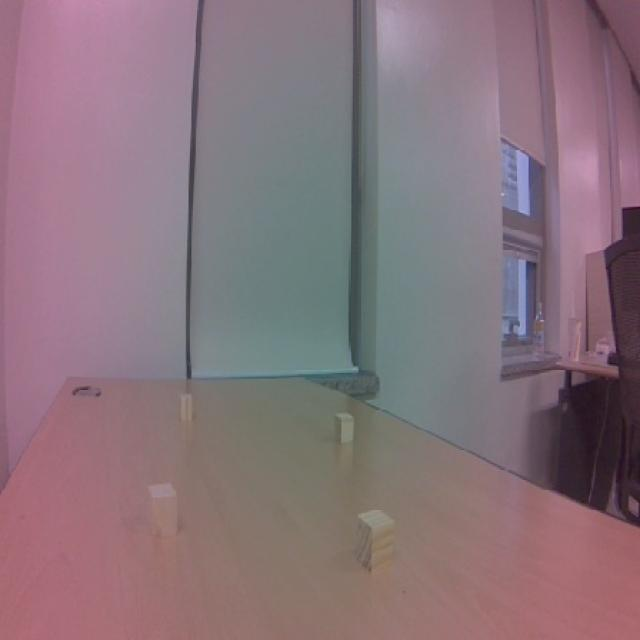obstacle: (344, 502, 406, 589), (138, 477, 185, 543), (331, 408, 362, 450)
